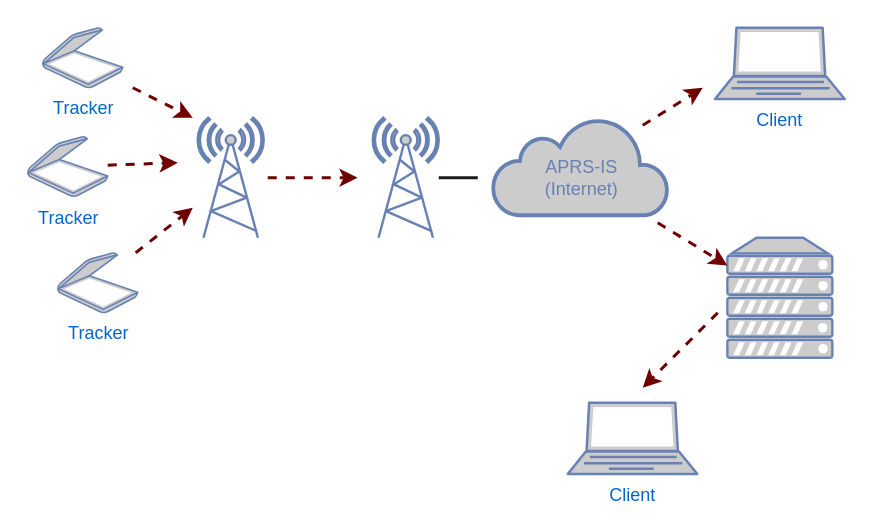
This 872x531 diagram has some shape labels left out. The shapes that lost their labels are listed below. From the top down, each one's centre as x and y in pixels, then its label:
(x=229, y=177): Digi-peater
(x=405, y=177): I-Gate
(x=779, y=297): Server
